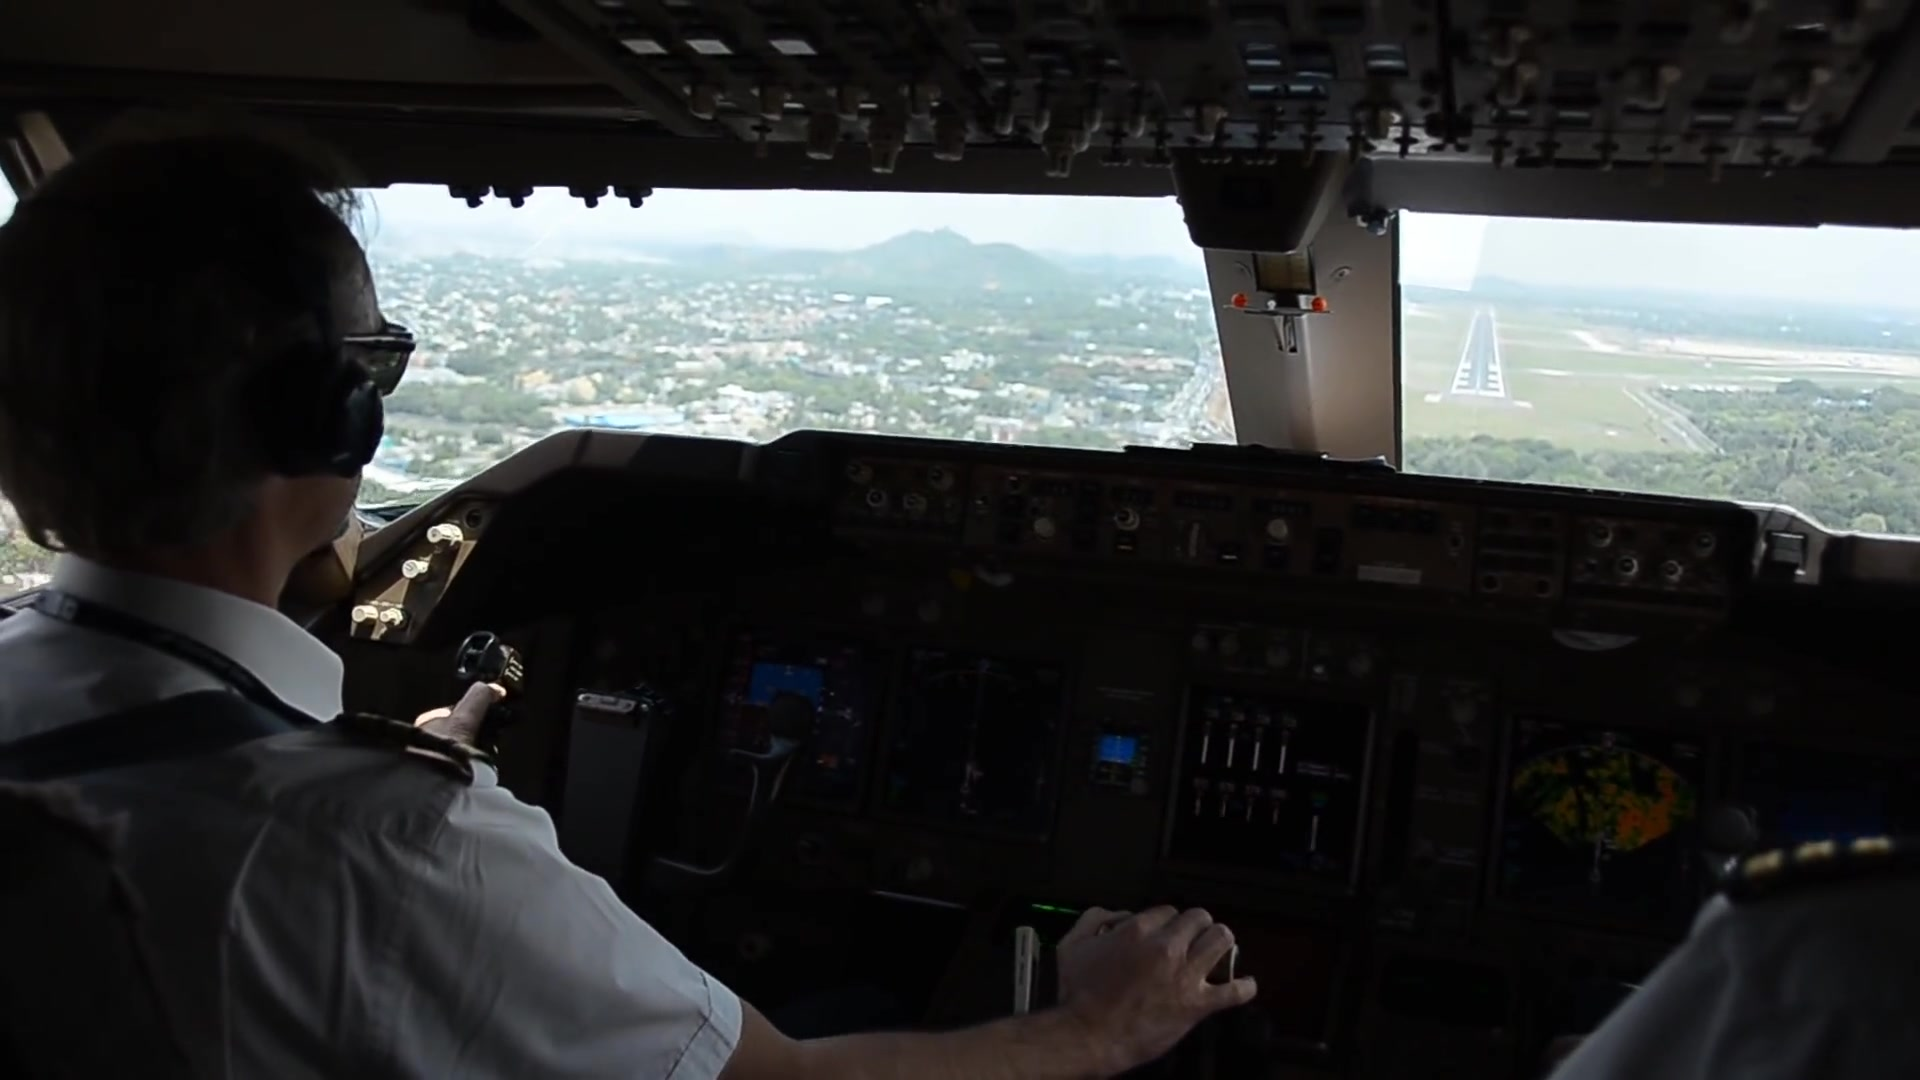runway: (1447, 307, 1509, 404)
